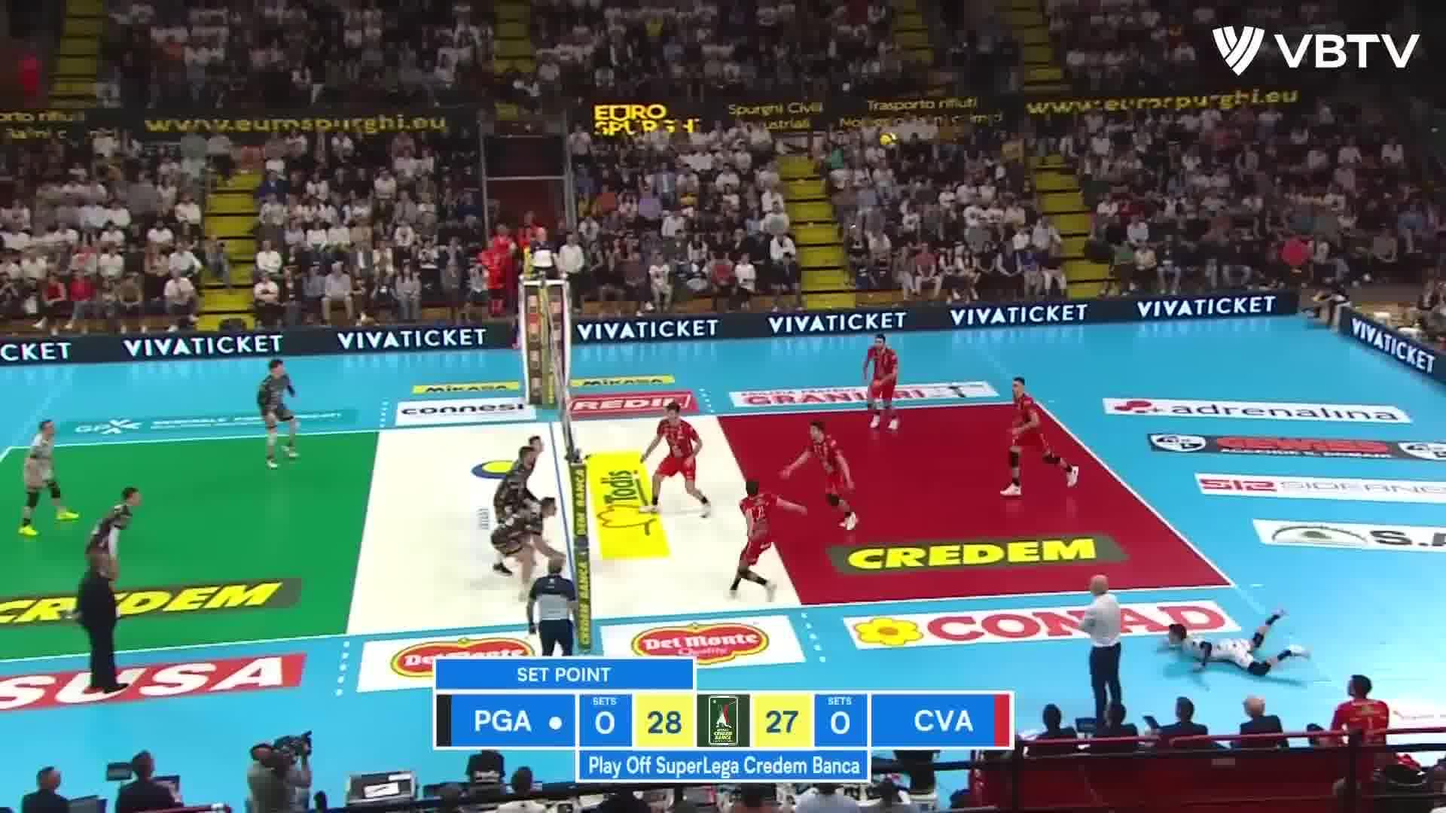balls: (880, 132, 898, 151)
